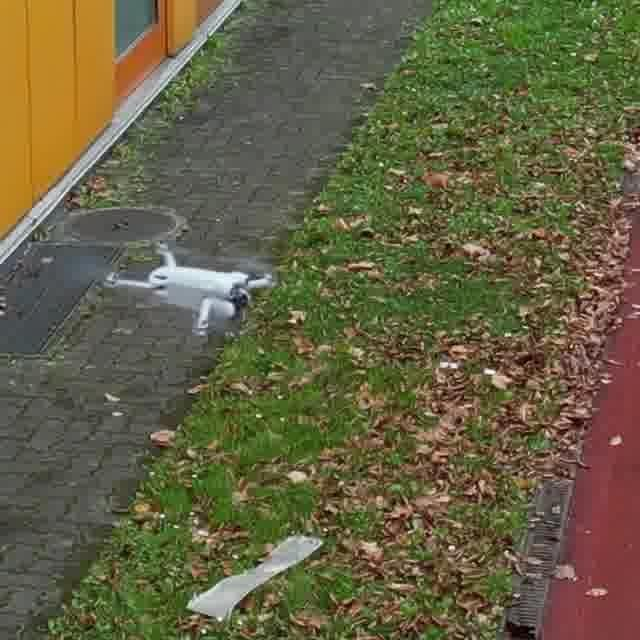Drohne: (105, 243, 272, 334)
